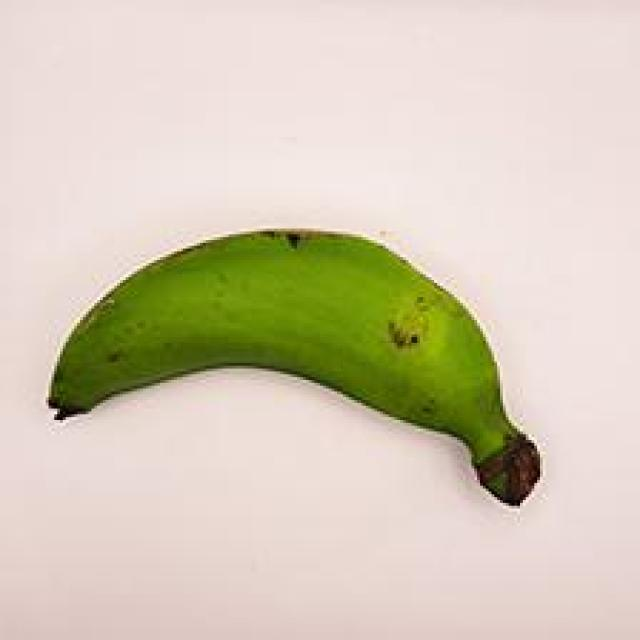Raw: (31, 204, 571, 530)
